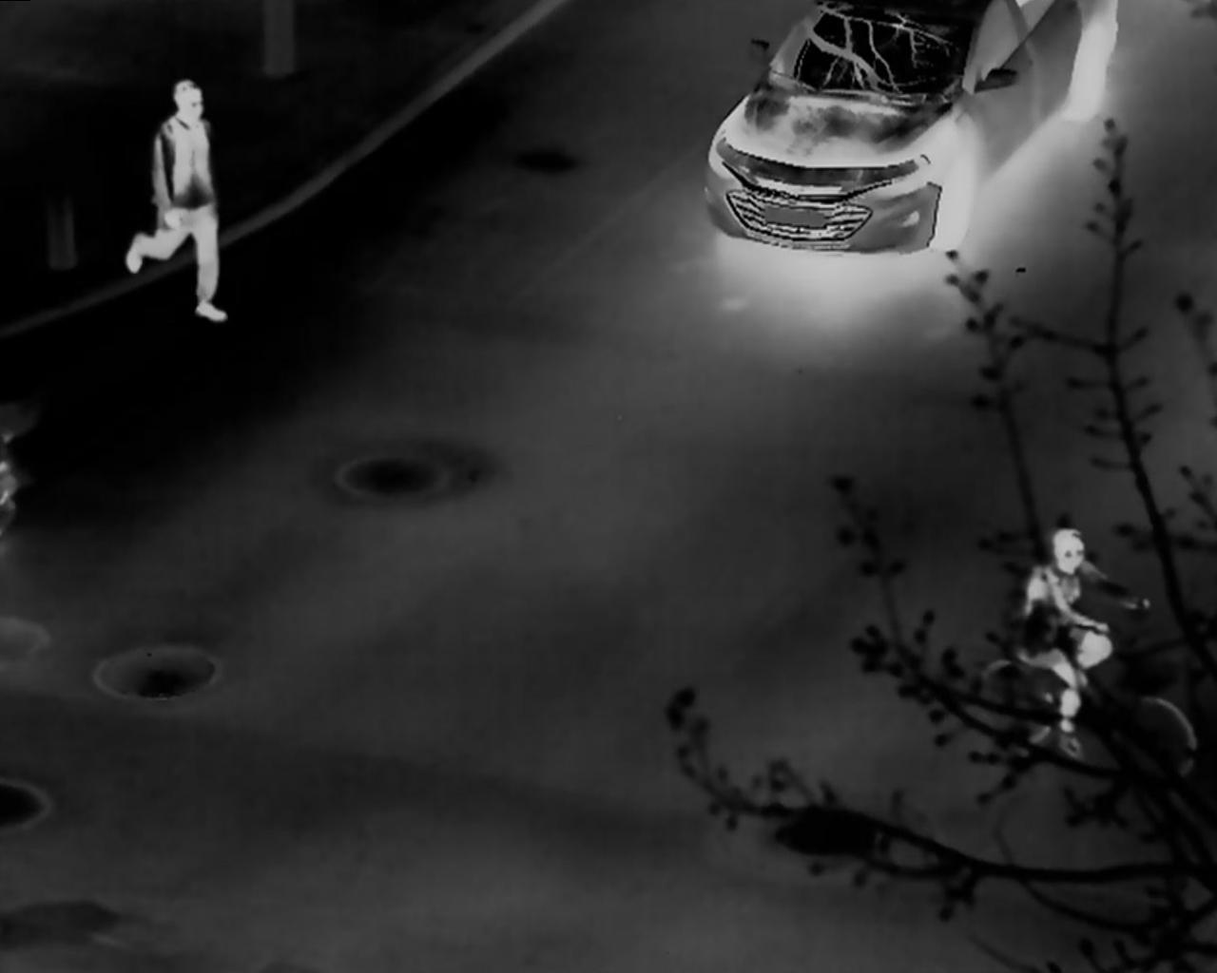person: (1014, 527, 1147, 757), (125, 78, 228, 323)
